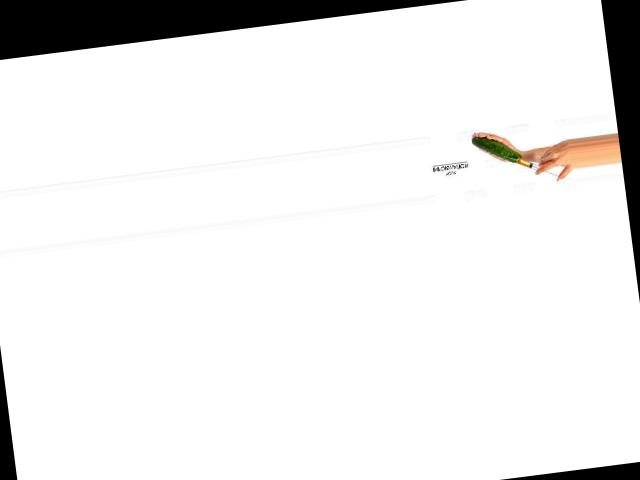cucumber: (472, 131, 522, 168)
